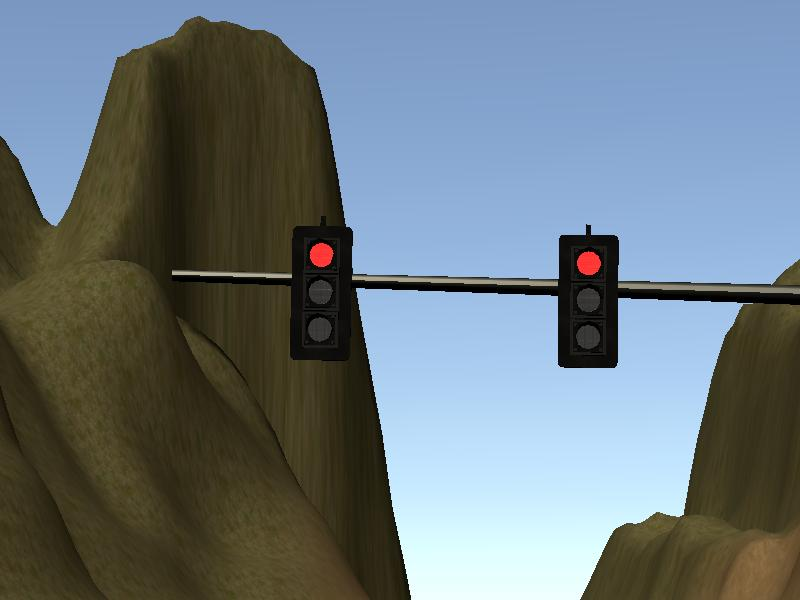red: (293, 225, 352, 359), (561, 231, 617, 368)
